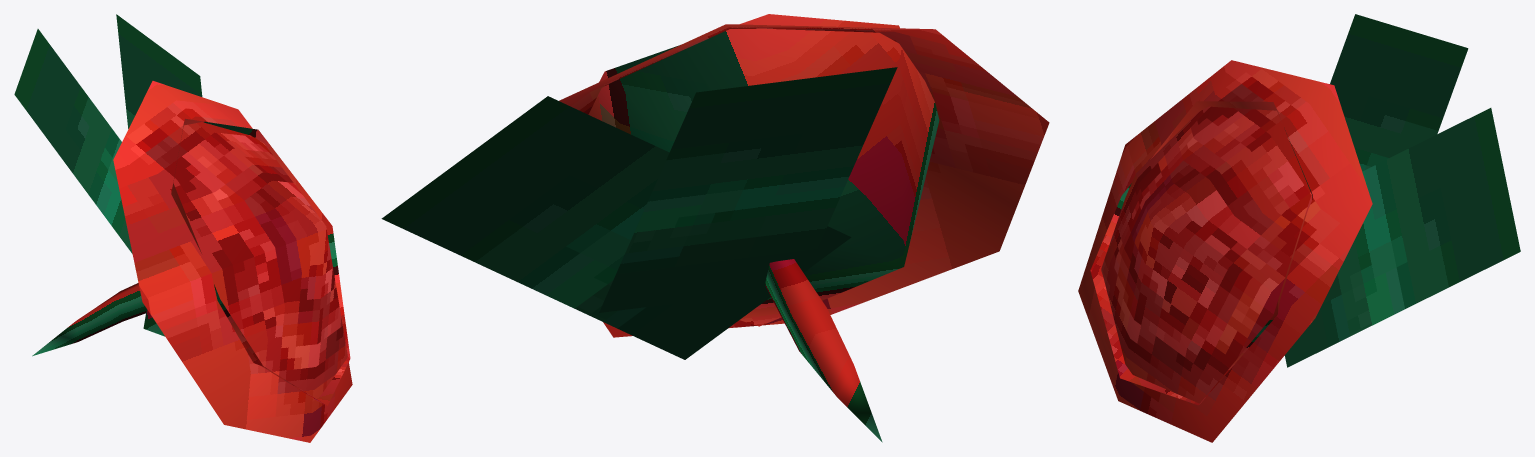
The model's file is flw_carna_rd_cap.dae.
The picture shows the model from 3 angles, left to right: view 1: azimuth 30°, elevation 25°; view 2: azimuth 150°, elevation 25°; view 3: azimuth 270°, elevation 25°; orthographic projection. The views are drawn at different scales.
Visible parts, largest first — view 1: flw_carna_rd_cap; view 2: flw_carna_rd_cap; view 3: flw_carna_rd_cap.
Part boxes in pixels (x1=…): flw_carna_rd_cap: x1=14, y1=14, x2=352, y2=442; flw_carna_rd_cap: x1=381, y1=14, x2=1049, y2=442; flw_carna_rd_cap: x1=1078, y1=14, x2=1520, y2=442.
Bounding box in the file's own units: 8.97 × 9.46 × 12.38.
Materials: 1 (1 with a texture image).
